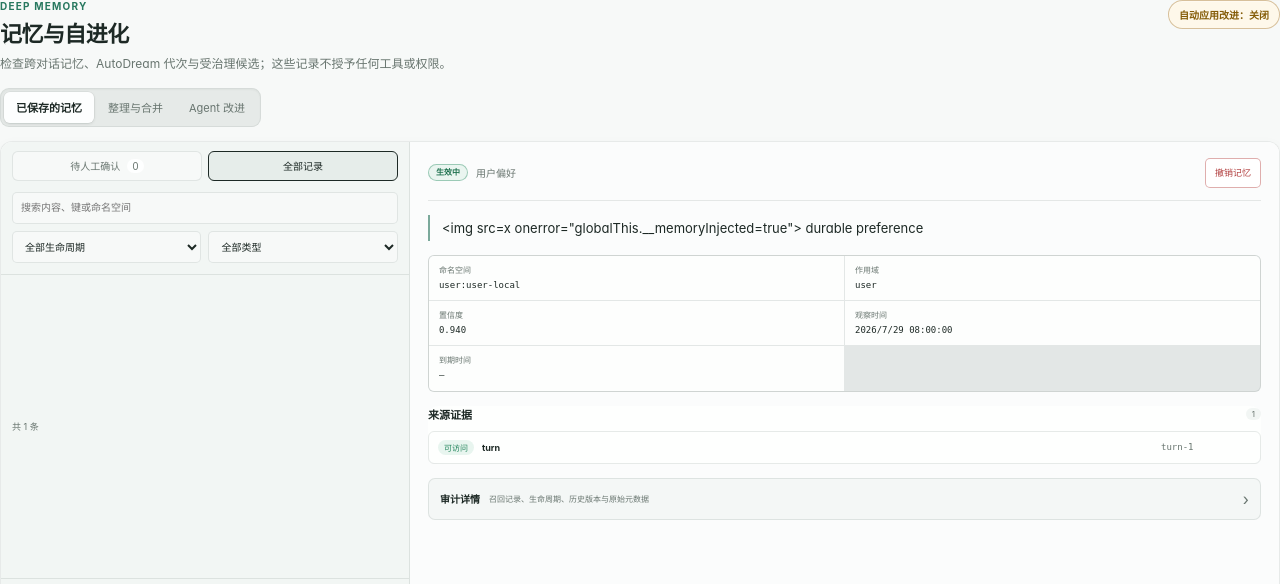
it: MemoryWorkbench › revokes with the visible state version and keeps the audit history
Expected: the element named "记忆详情" is shown, [410,142,1279,548]
Click the button "撤销记忆": point(1233, 173) [1205,158,1261,188]
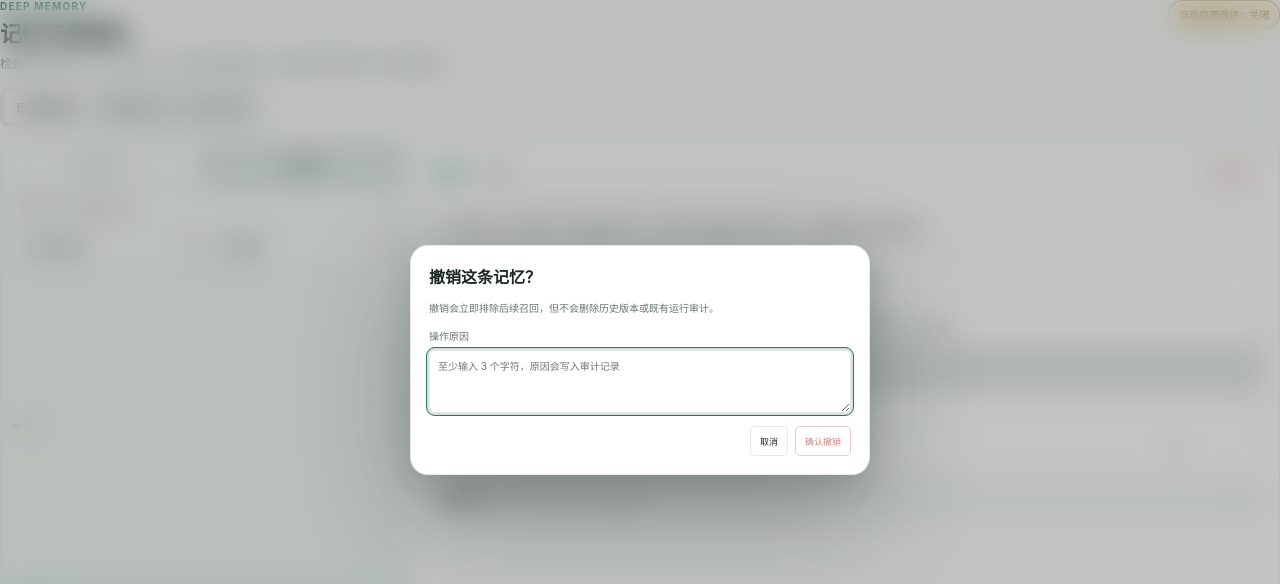
In the text box with placeholder "至少输入 3 个字符，原因会写入审计记录": point(640, 382) [429,350,851,413], type "用户要求撤销"
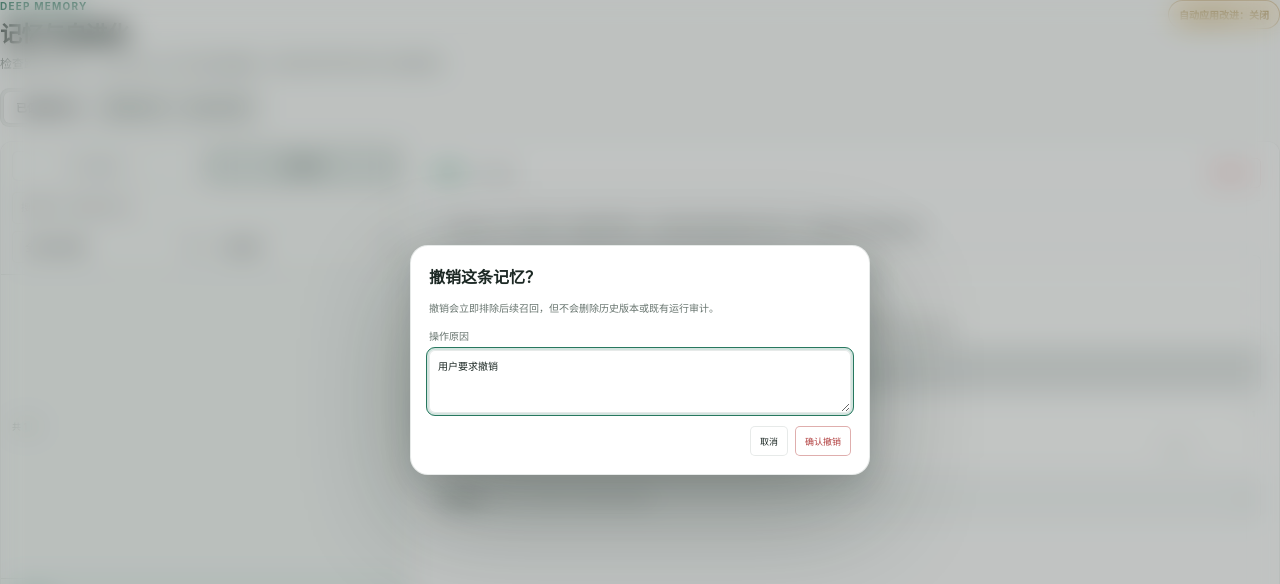
Click the button "确认撤销": point(823, 441) [795,426,851,456]
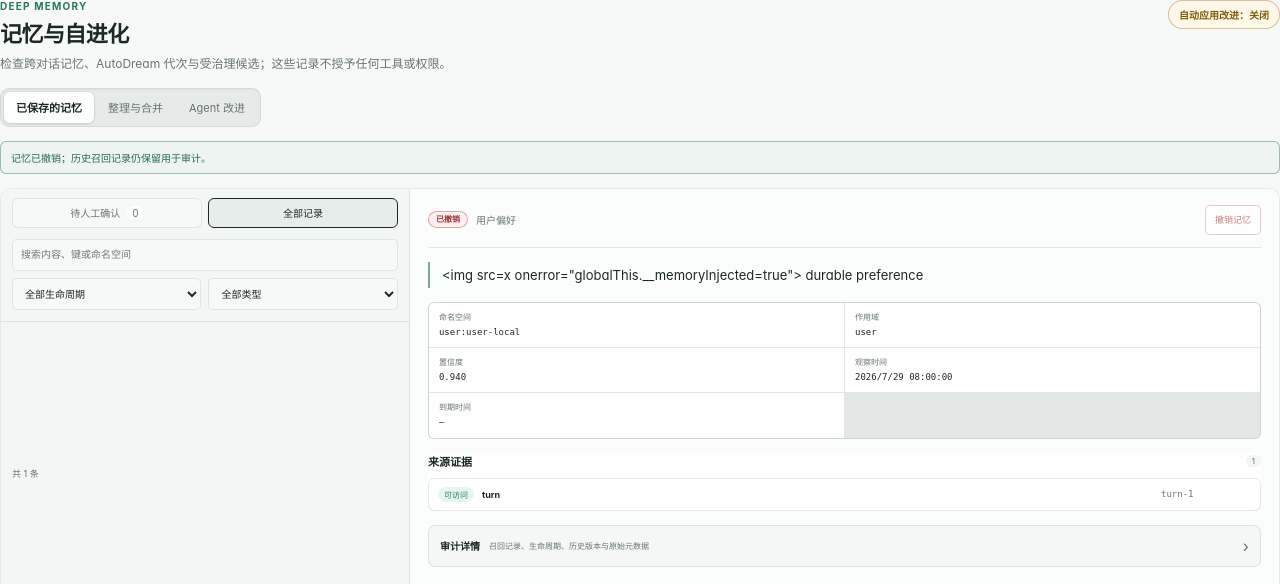
Result: the heading "撤销这条记忆？" is gone
Result: the text "记忆已撤销；历史召回记录仍保留用于审计。" is shown at [0,141,1279,174]
